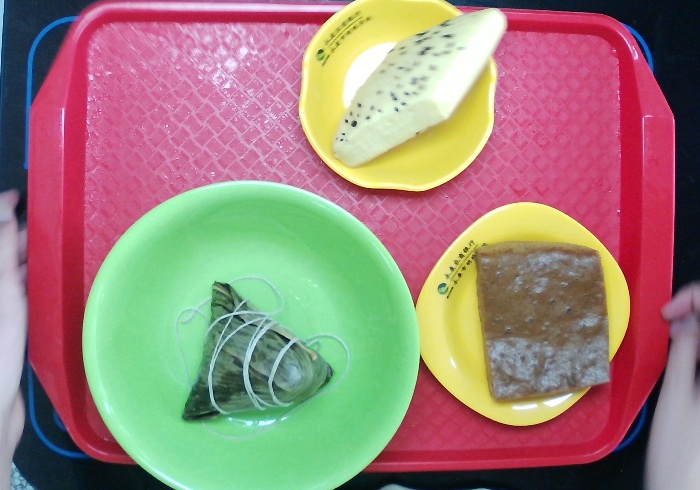YKMZ-Huang_Se_Ao_Bian_Wan: (290, 1, 508, 201)
YKMZ-Huang_Se_Fang_Die: (408, 197, 638, 433)
YKMZ-Lv_Se_Tang_Wan: (77, 176, 430, 490)
